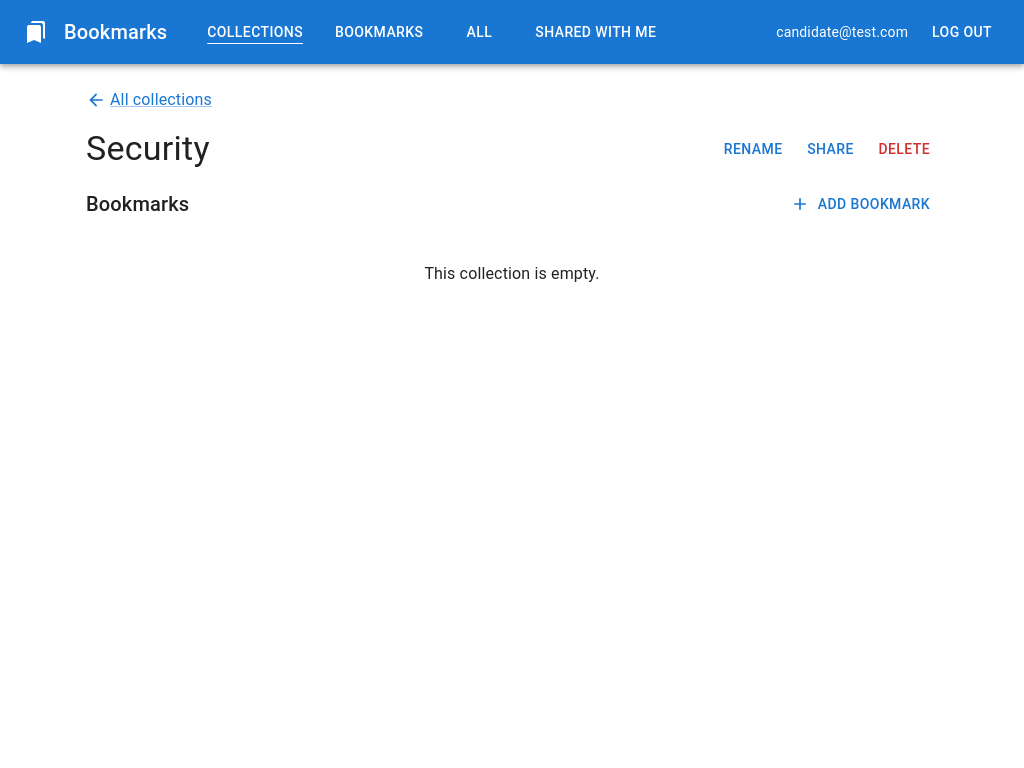
Test: ShareDialog (ADR-019b/c/d) › revoking asks for confirmation first, then removes access
Click the button "Share".
click(830, 149)  # box [798, 131, 862, 167]
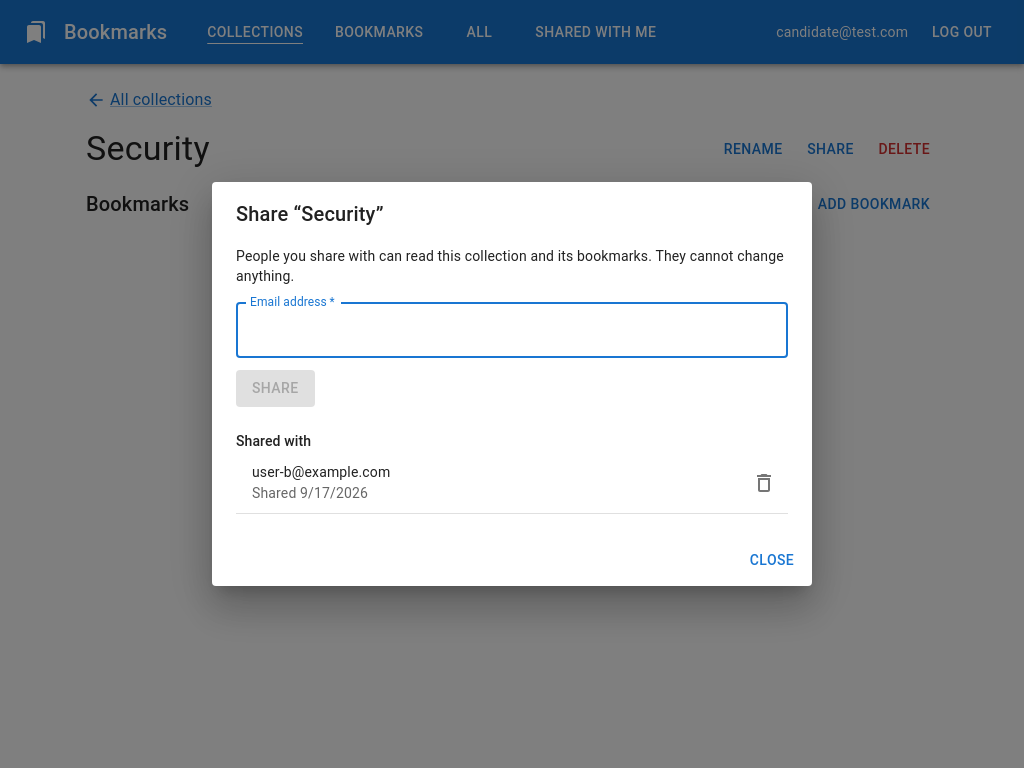
Click the button named "Stop sharing with user-b@example.com".
click(764, 482)  # box [744, 462, 784, 502]
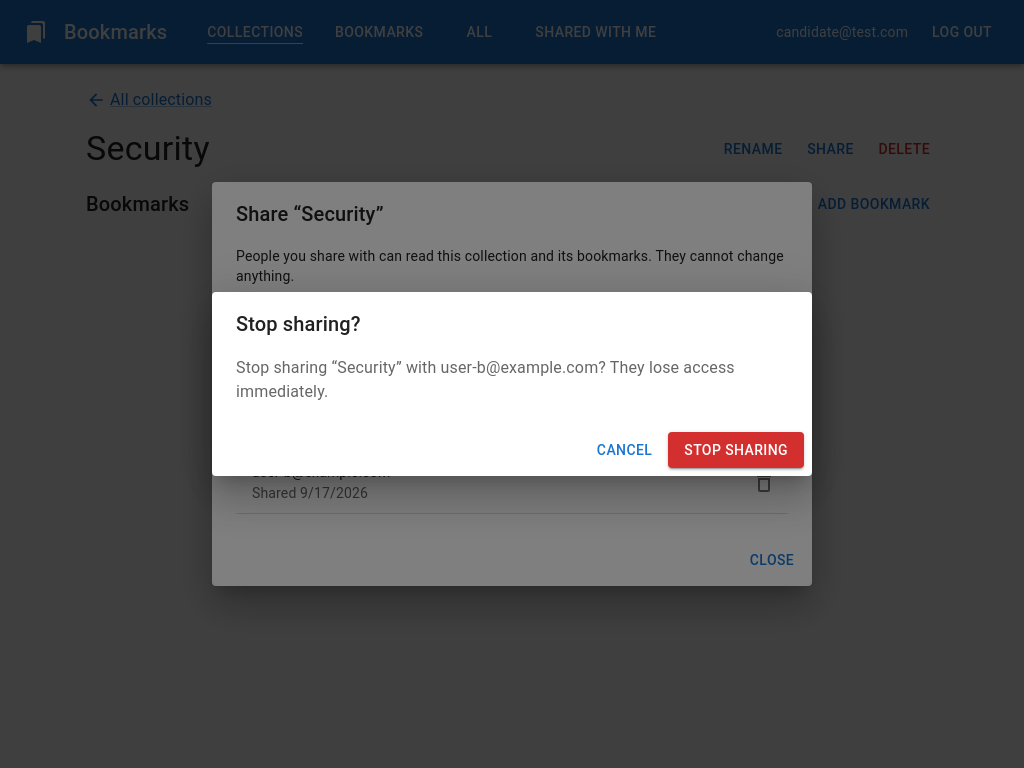
Expected: the dialog "Stop sharing?" shows "They lose access immediately.", [236, 358, 735, 401]
Click the button "Stop sharing".
click(736, 450)  # box [668, 432, 804, 468]
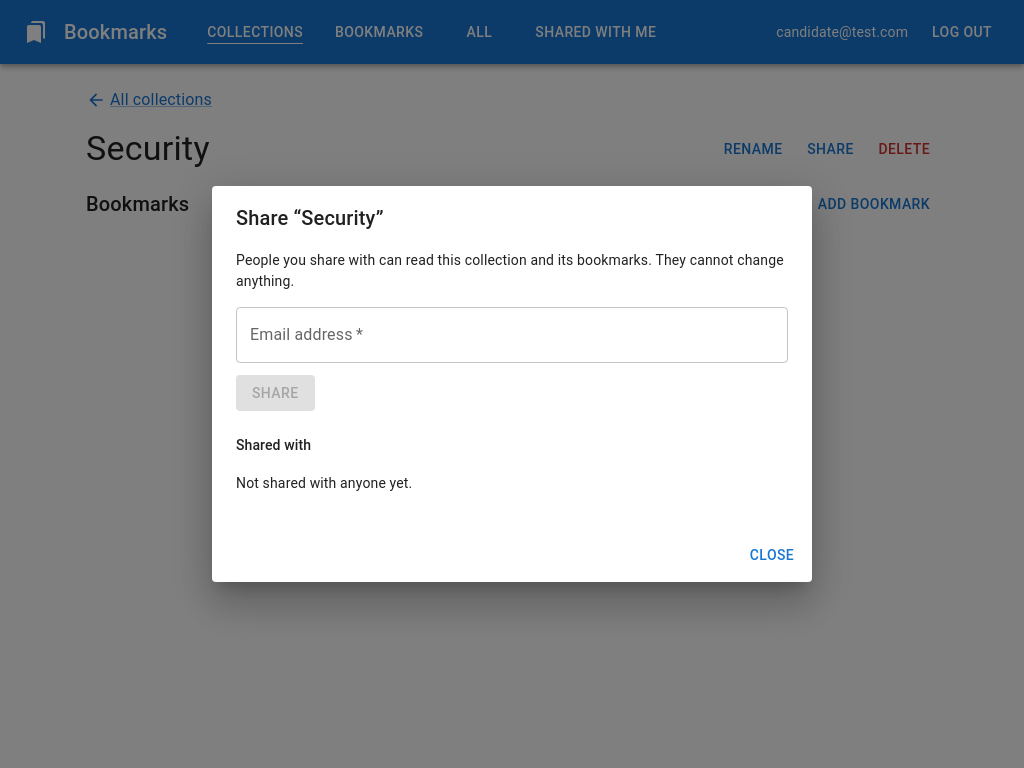
Expected: the text "user-b@example.com" is gone
